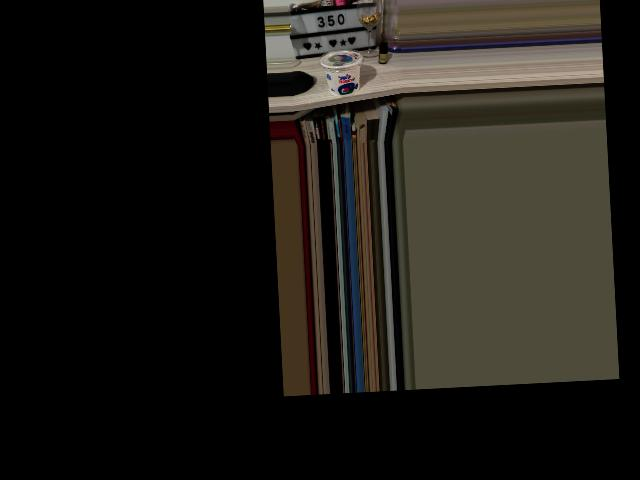cotage: (322, 47, 361, 98)
